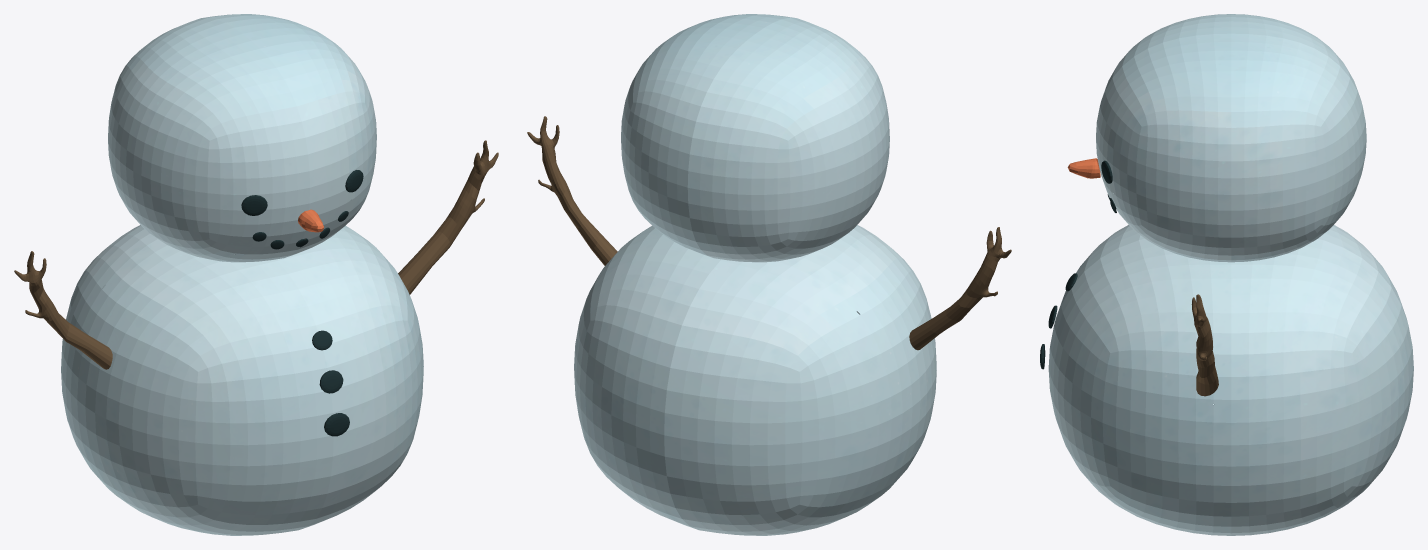
Rendered from frosty.obj.
The picture shows the model from 3 angles, left to right: view 1: azimuth 30°, elevation 25°; view 2: azimuth 150°, elevation 25°; view 3: azimuth 270°, elevation 25°; orthographic projection.
Visible parts, largest first — view 1: snowy; view 2: snowy; view 3: snowy.
Part boxes in pixels (left/top/right/bottom): snowy: left=14, top=14, right=498, bottom=535; snowy: left=527, top=14, right=1011, bottom=535; snowy: left=1040, top=14, right=1413, bottom=535.
Size of the model in its own units: 3 by 2.82 by 2.01.
1 material, 1 textured.
